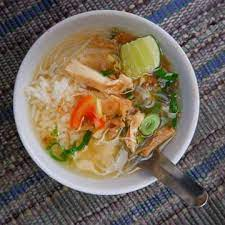soto: (12, 11, 198, 196)
